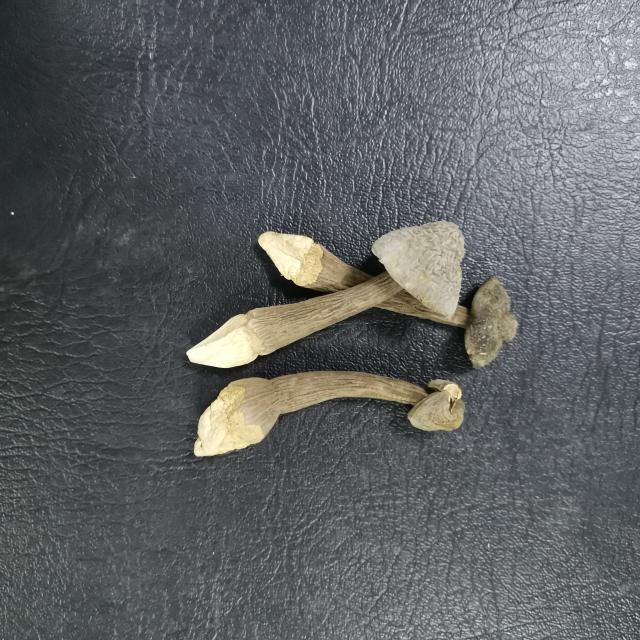Collybia albuminosa: (184, 217, 464, 376), (251, 232, 527, 371), (193, 369, 465, 463)
